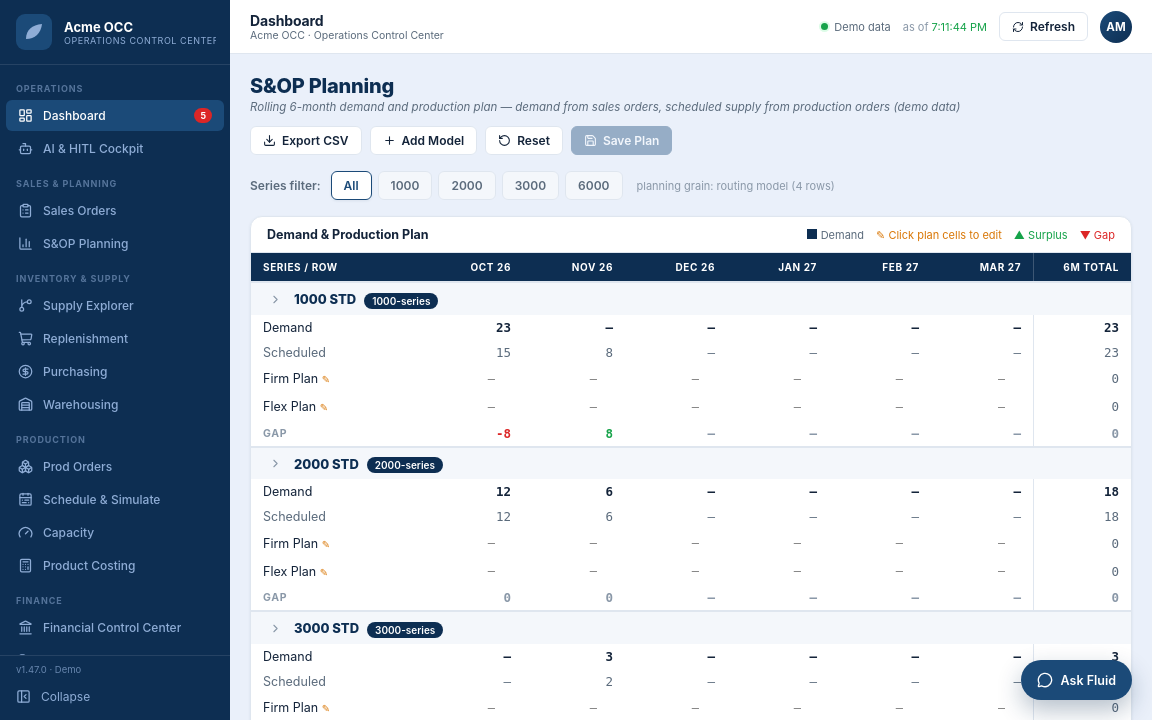
Test: S&OP page › shows the server's validation error on save
expect the heading "S&OP Planning" is shown: met, box [250,74,394,98]
In the number field named "Flex Plan 1000 STD Oct 26": (481, 407) [445,395,517,419], type "5"
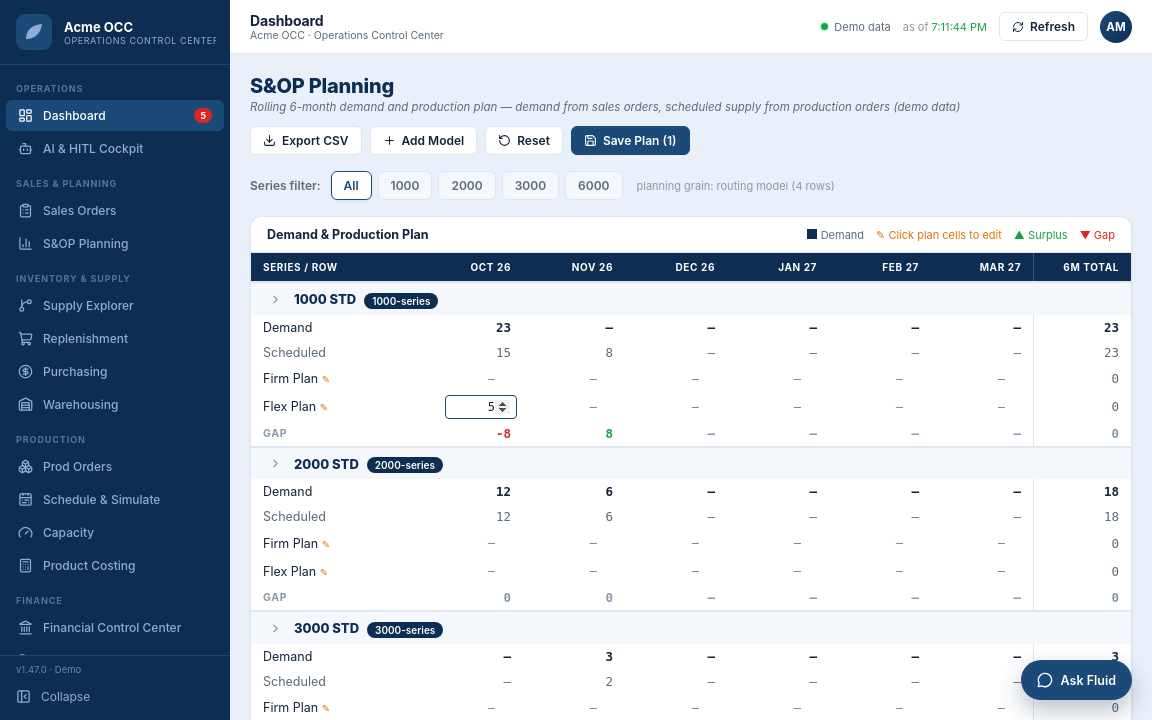
Click the button "Save Plan (1)": click(630, 140) [571,126,690,155]
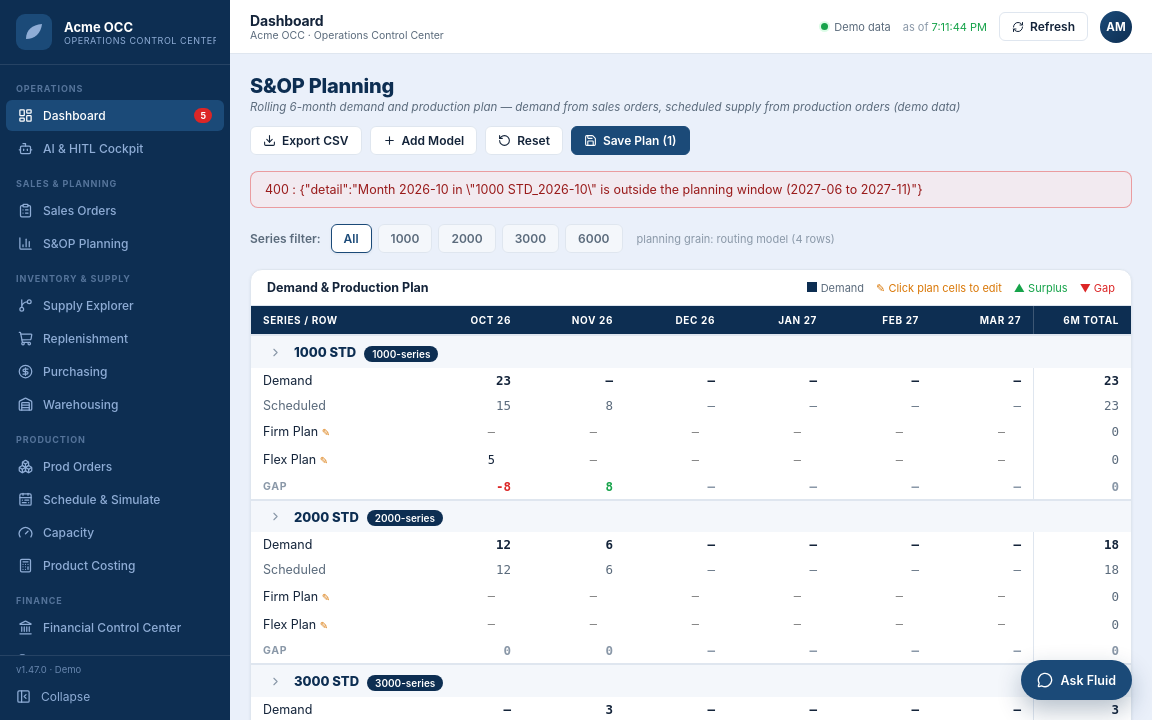
expect the message shows "outside the planning window": met, box [265,182,922,197]
